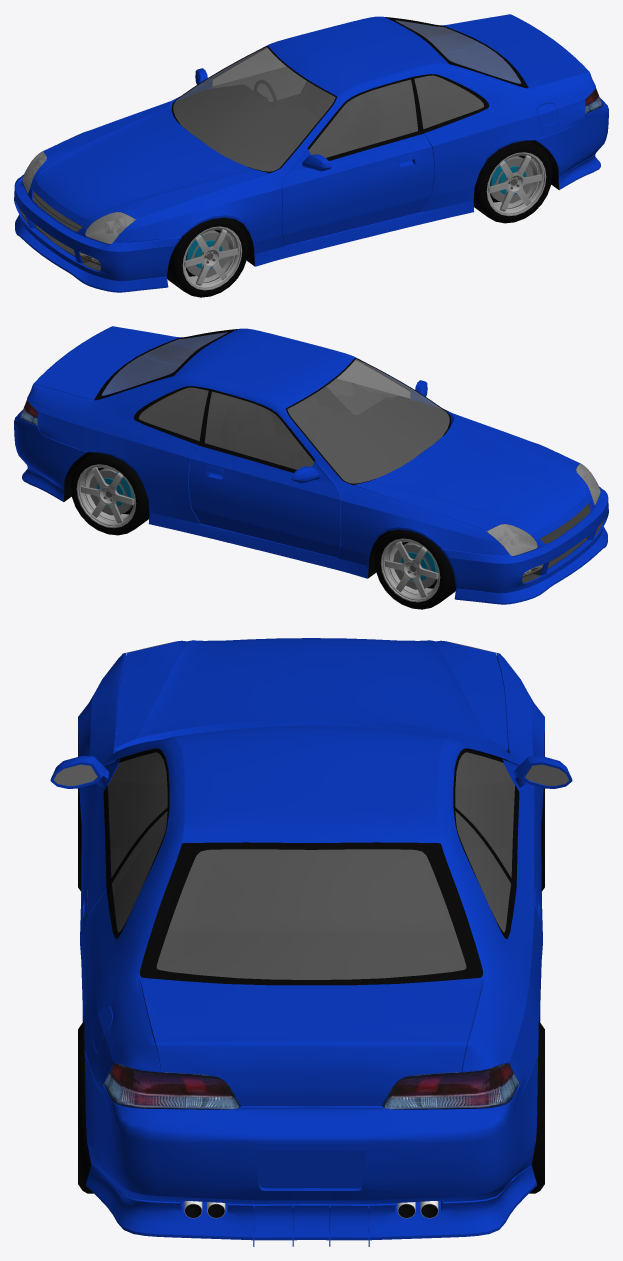
File: prelude.glb
3 renders of one model, top to bottom at view 1: azimuth 30°, elevation 25°; view 2: azimuth 150°, elevation 25°; view 3: azimuth 270°, elevation 25°, orthographic. The views are drawn at different scales.
Visible parts, largest first — view 1: body_Black_Metal_Paint_0, body_Glass.001_0, body_black4_0, Cylinder_Material.001_0_Material.004_0, body.001_material_8_0, body_glaaa_0; view 2: body_Black_Metal_Paint_0, body_Glass.001_0, body_black4_0, Cylinder_Material.001_0_Material.004_0, body.001_material_8_0, body_glaaa_0; view 3: body_Black_Metal_Paint_0, body_black4_0, body_Glass.001_0, object 6, Cylinder_Material.001_0_Material.004_0, body.001_material_8_0.
Part boxes in pixels (bbox=[...]): body_Black_Metal_Paint_0: bbox=[14, 14, 608, 292]; body_Glass.001_0: bbox=[173, 20, 520, 171]; body_black4_0: bbox=[173, 75, 558, 266]; Cylinder_Material.001_0_Material.004_0: bbox=[167, 140, 552, 297]; body.001_material_8_0: bbox=[30, 68, 398, 219]; body_glaaa_0: bbox=[22, 151, 135, 243]; body_Black_Metal_Paint_0: bbox=[14, 326, 608, 604]; body_Glass.001_0: bbox=[102, 332, 449, 483]; body_black4_0: bbox=[64, 386, 449, 578]; Cylinder_Material.001_0_Material.004_0: bbox=[70, 452, 455, 609]; body.001_material_8_0: bbox=[221, 380, 592, 531]; body_glaaa_0: bbox=[487, 463, 600, 555]; body_Black_Metal_Paint_0: bbox=[78, 638, 544, 1246]; body_black4_0: bbox=[83, 752, 539, 1240]; body_Glass.001_0: bbox=[108, 752, 514, 979]; object 6: bbox=[104, 1063, 519, 1109]; Cylinder_Material.001_0_Material.004_0: bbox=[78, 732, 544, 1193]; body.001_material_8_0: bbox=[50, 653, 572, 788].
Size of the model in its own units: 3.01 by 0.8489 by 1.28.
Materials: 8 (8 with a texture image).
